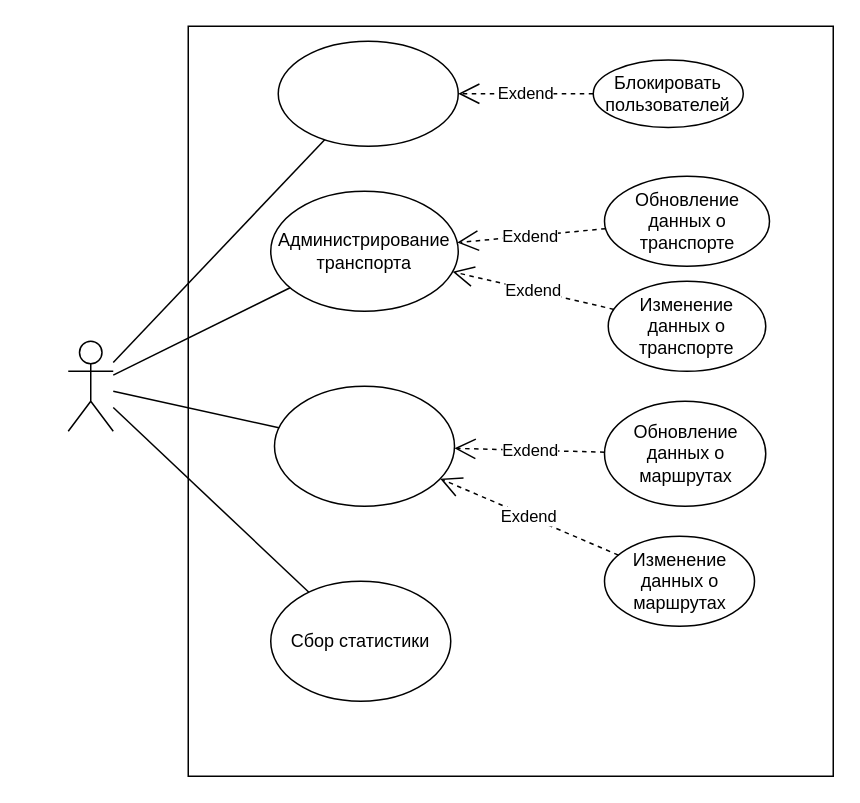
Image size: 860x803. Some labels were removed from this diagram. Each missing label, with the box of its shape:
Администратор: (67, 340, 113, 431)
Администрирование маршрутов: (273, 385, 454, 506)
Администрирование пользователей: (277, 40, 458, 146)
